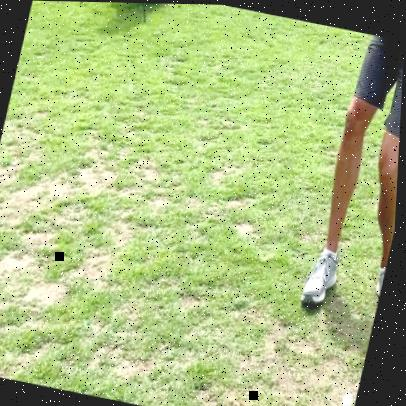ClubHead: (344, 388, 359, 406)
